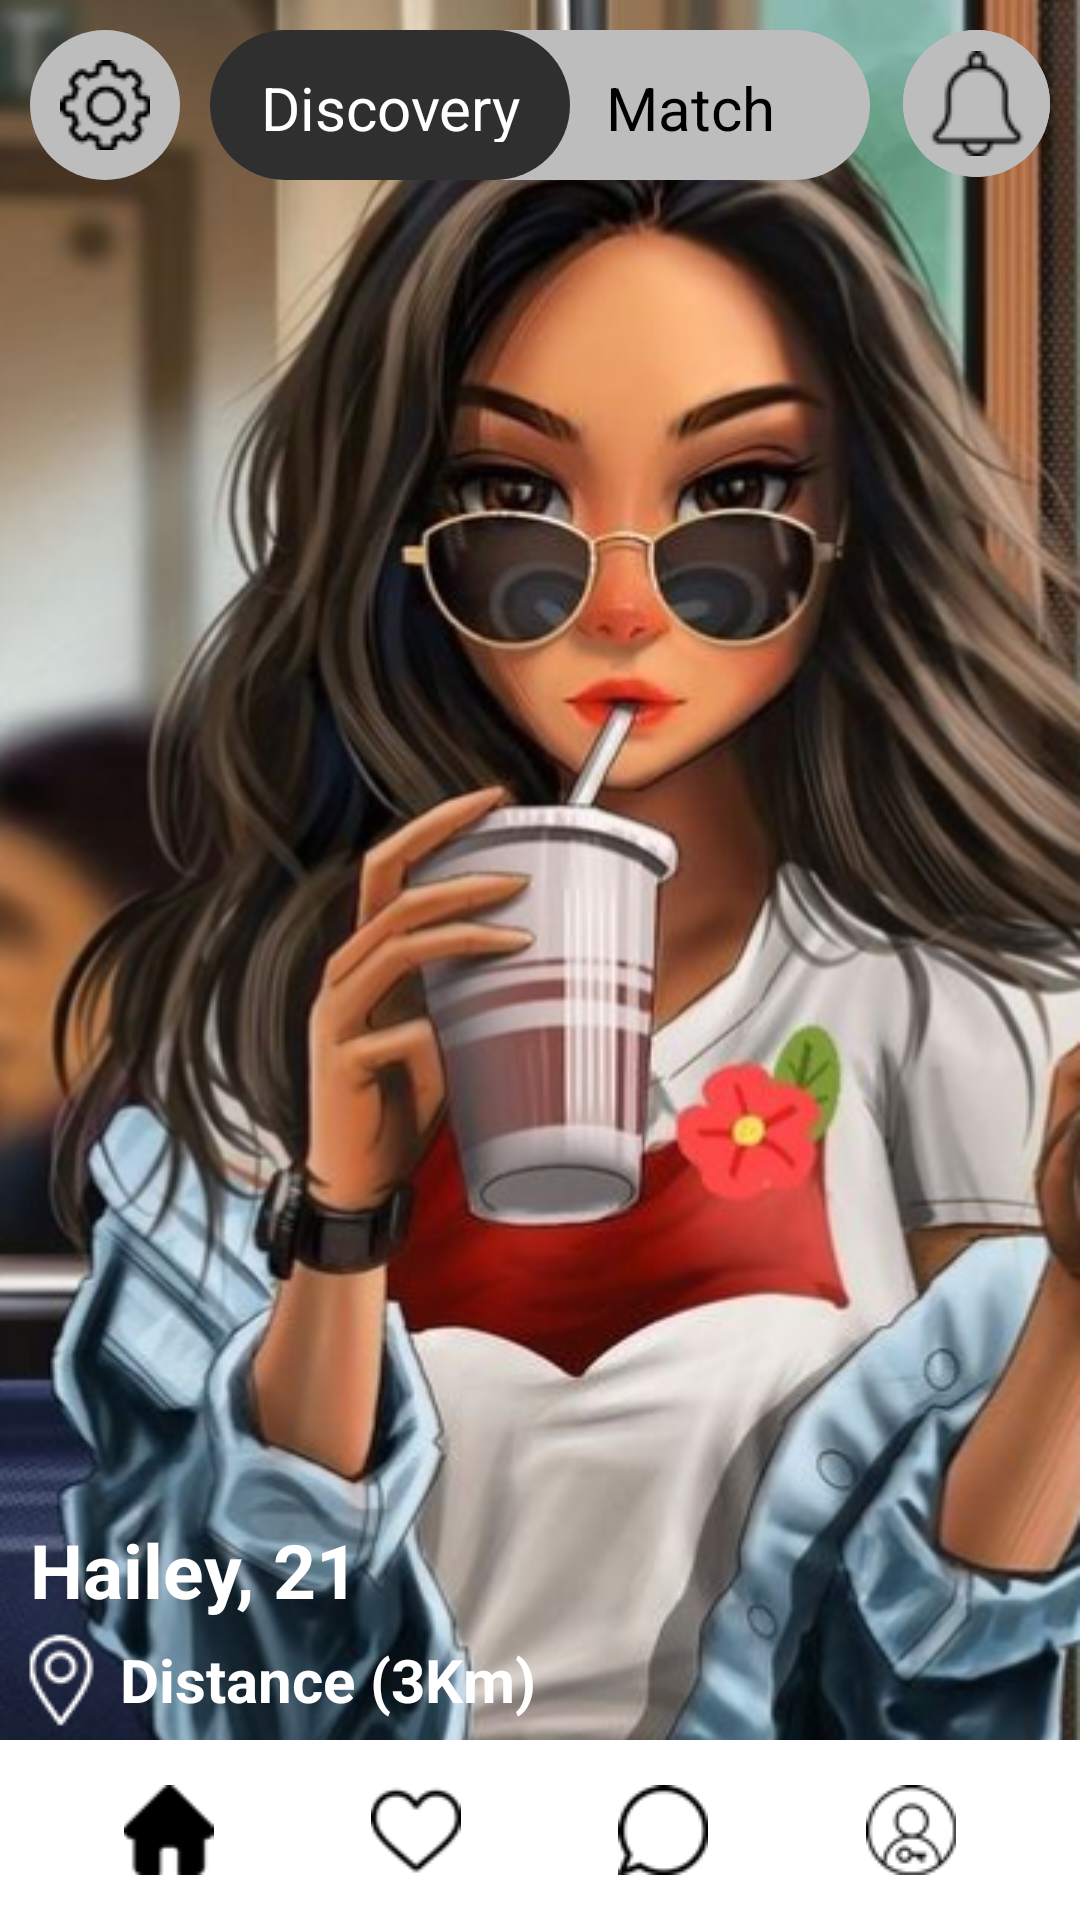

Screen size 1080*1920. Icon name, then its center in pixels as (x,y):
admin: (911,1830)
bell: (976,103)
chat: (663,1830)
heart: (416,1830)
home: (169,1830)
location: (60,1680)
settings: (105,105)
